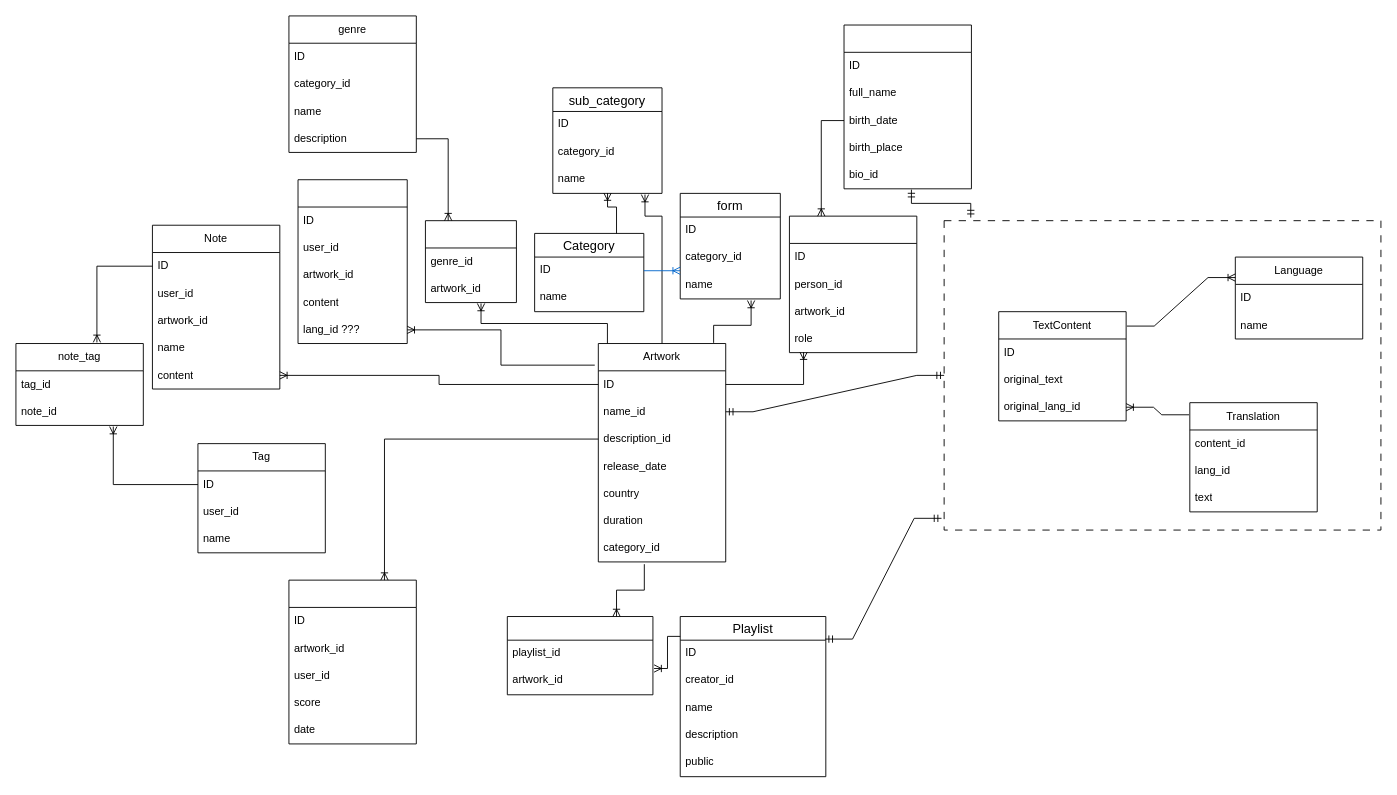
This 1397x795 diagram has some shape labels left out. Here are the shapes that lost their labels. From the top down, the box of each, then its label:
(843, 24, 971, 189): Person
(297, 179, 407, 344): Review
(425, 220, 516, 303): artwork_genre
(789, 215, 917, 353): Cast
(288, 579, 416, 744): rating
(506, 616, 653, 695): playlist_item
